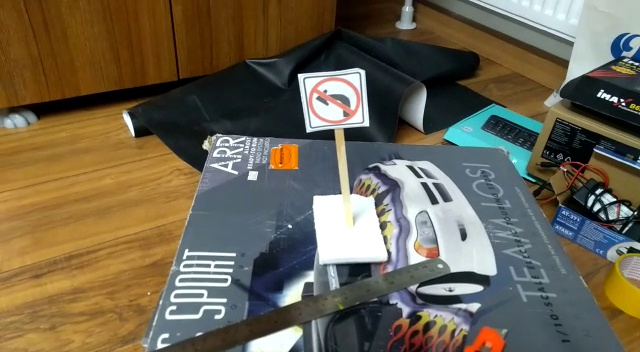sola_donulmez: (301, 74, 364, 124)
